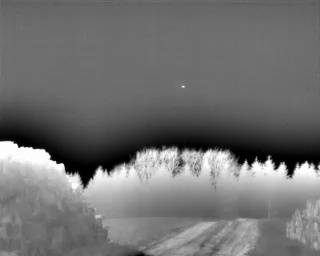AIRPLANE: (180, 83, 187, 90)
